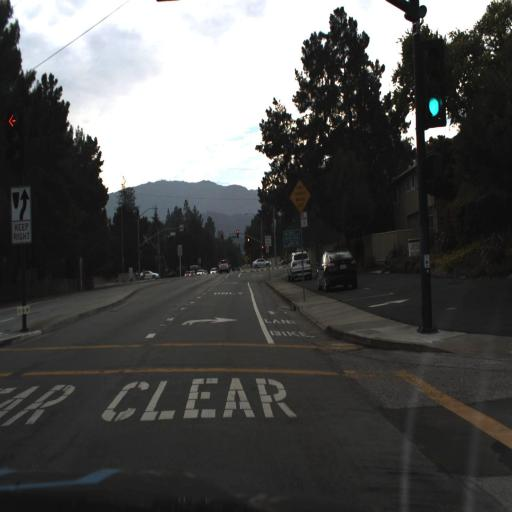car: (317, 249, 355, 294), (288, 252, 311, 282)
trafficLight-Green: (417, 40, 446, 128)
trafficLight-RedLeft: (5, 107, 23, 176)
